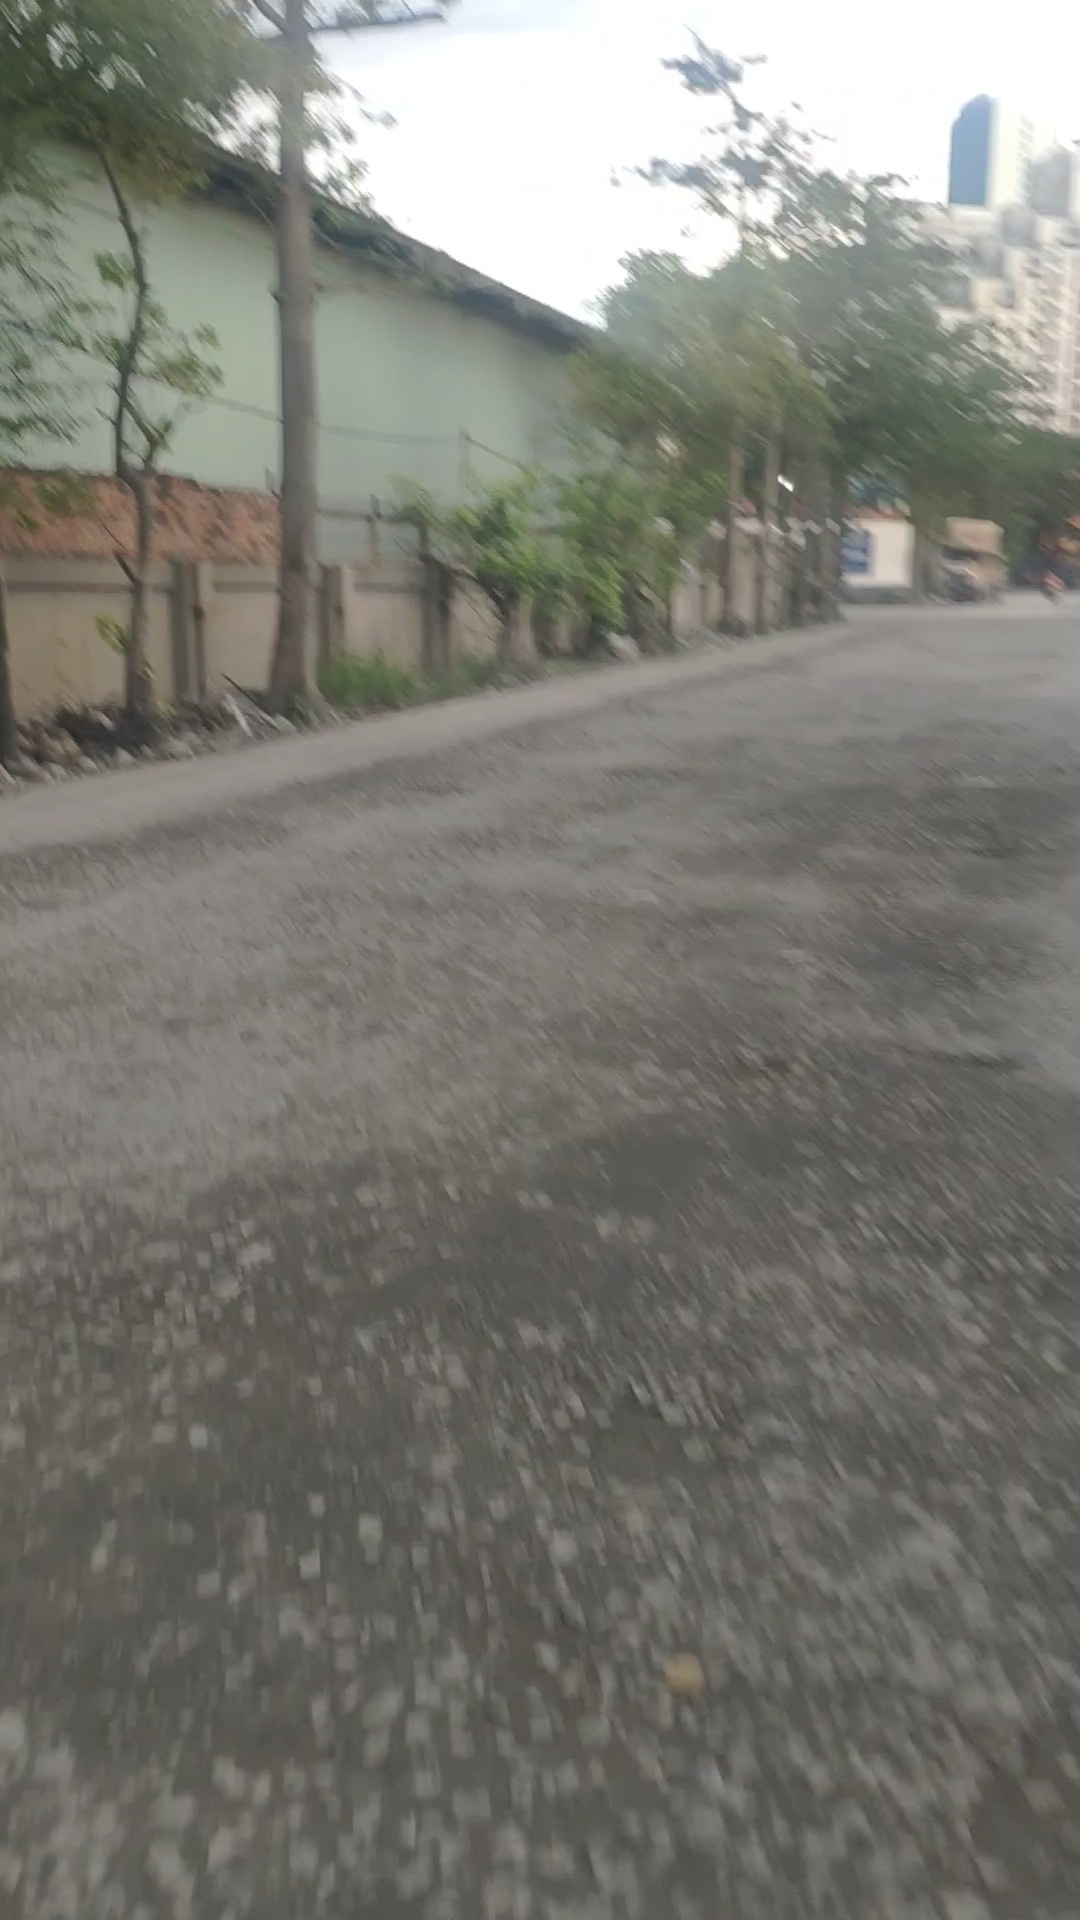hole: (705, 1021, 1048, 1138), (736, 764, 1080, 865), (761, 889, 1063, 1002)
